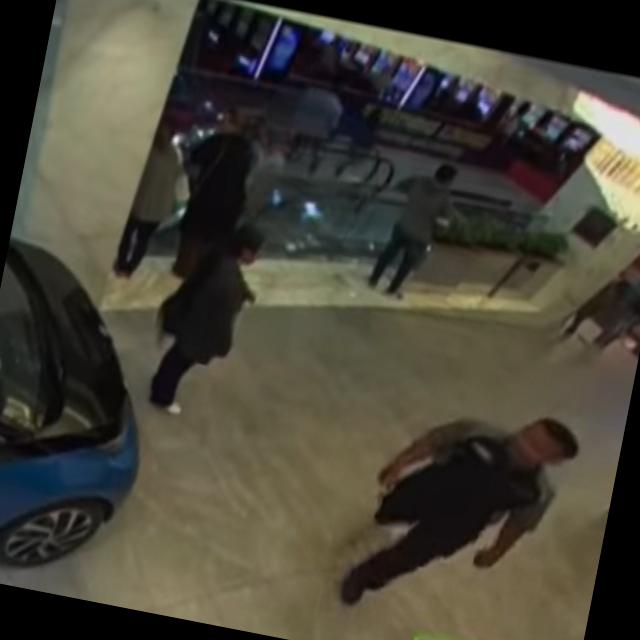person: (335, 380, 587, 640), (139, 206, 271, 426), (166, 101, 266, 288), (364, 154, 465, 306), (114, 111, 197, 285), (282, 74, 349, 176), (592, 263, 640, 357)
